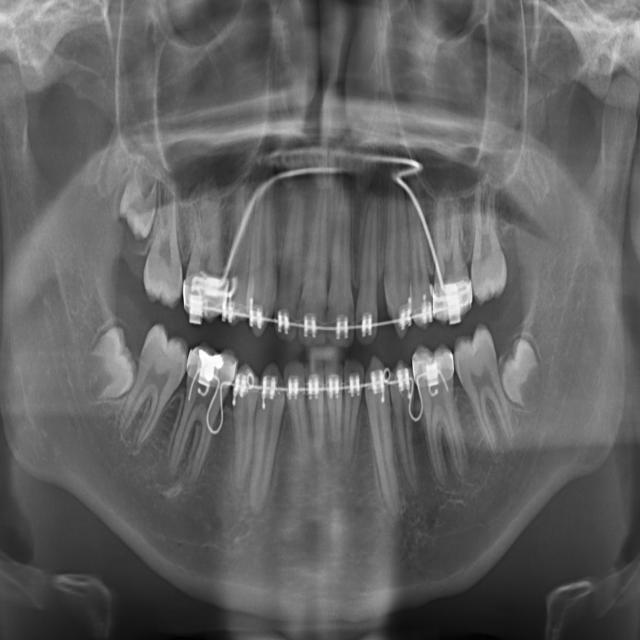3M ESPE Implant: (113, 153, 165, 245)
AGS Medikal Implant: (354, 192, 381, 349)
AMerOss Implant: (379, 151, 412, 342)
Amalgam filling: (407, 180, 434, 334)
Bicon Implant: (432, 187, 473, 327)
BioHorizons Implant: (460, 166, 510, 307)
Biomet 3i Implant: (497, 336, 545, 414)
Blue Sky Bio Implant: (445, 319, 524, 472)
Camlog Implant: (408, 339, 477, 492)
Caries: (142, 173, 186, 310)
Cowellmedi Implant: (388, 358, 424, 499)
Crown: (361, 353, 404, 528)
DENTSPLY Implant: (342, 356, 365, 470)
Dentatus Implant: (322, 359, 344, 463)
Dentis Implant: (304, 360, 327, 470)
Dentium Implant: (282, 358, 315, 477)
Euroteknika Implant: (245, 359, 288, 521)
Filling: (223, 362, 259, 493)
Hiossen Implant: (183, 190, 227, 326)
Implant: (110, 319, 198, 458)
Implant Direct: (163, 339, 240, 488)
Keystone Dental Implant: (69, 324, 143, 406)
Mandible: (221, 178, 256, 328)
Maxilla: (246, 155, 285, 338)
Megagen Implant: (270, 182, 318, 345)
Neodent Implant: (298, 183, 331, 349)
Neoss Implant: (324, 181, 354, 350)
